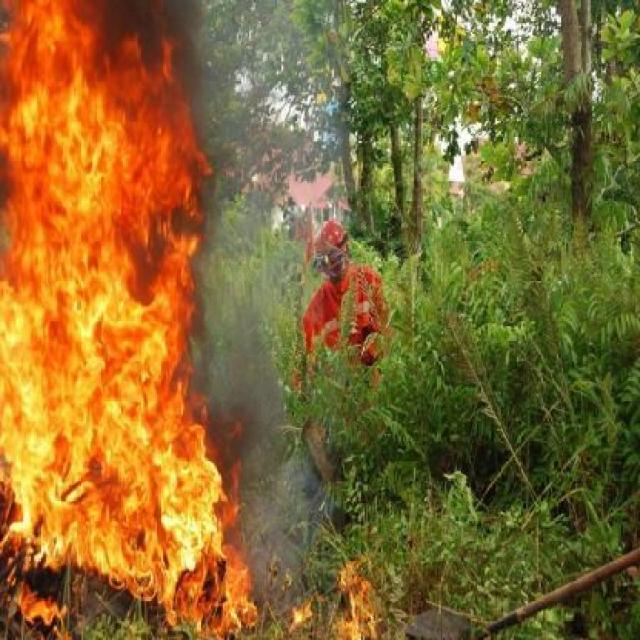Fire: (0, 0, 260, 640), (274, 566, 390, 638)
Smoke: (188, 8, 324, 630)
